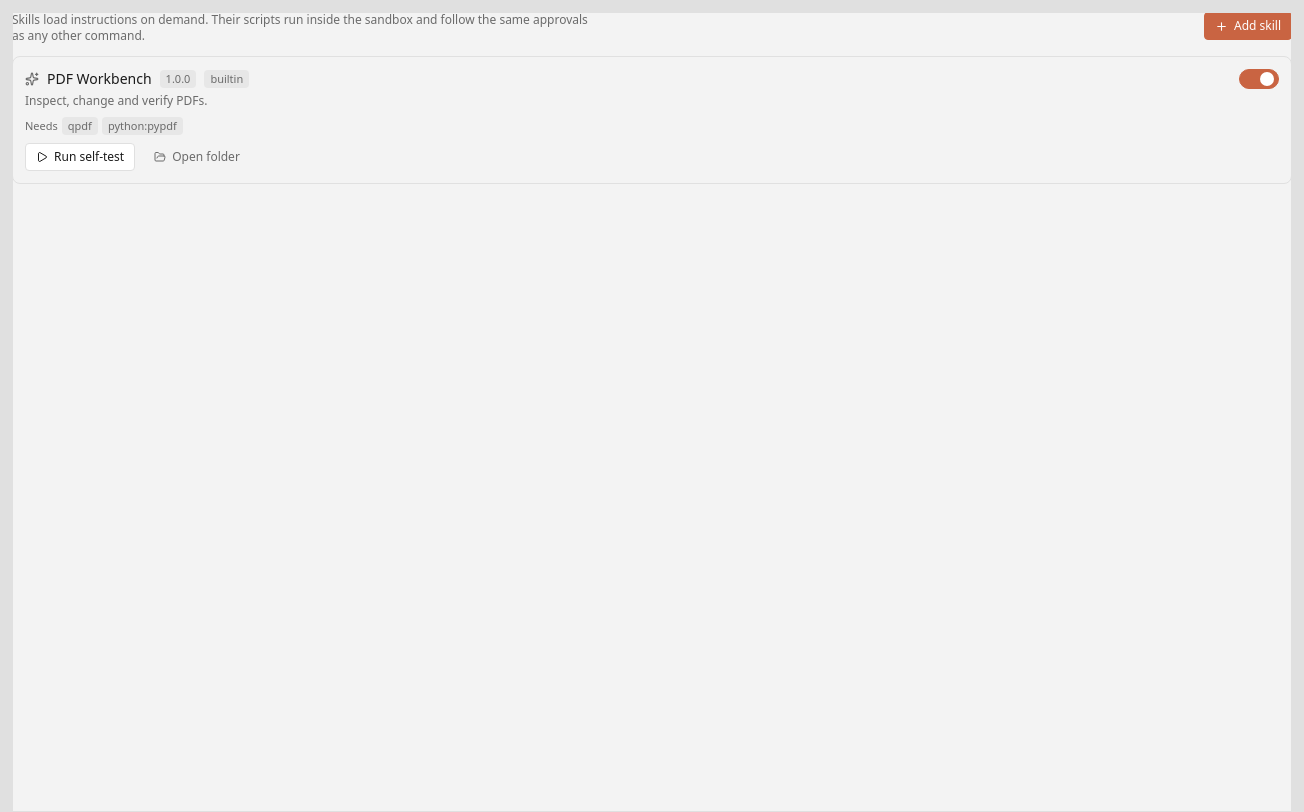
Test: SkillsPage › shows the self-test result
What coordinates should you click on to do the following:
click the button "Run self-test"
I would click on:
 (80, 157)
Its box is [25,143,135,171].
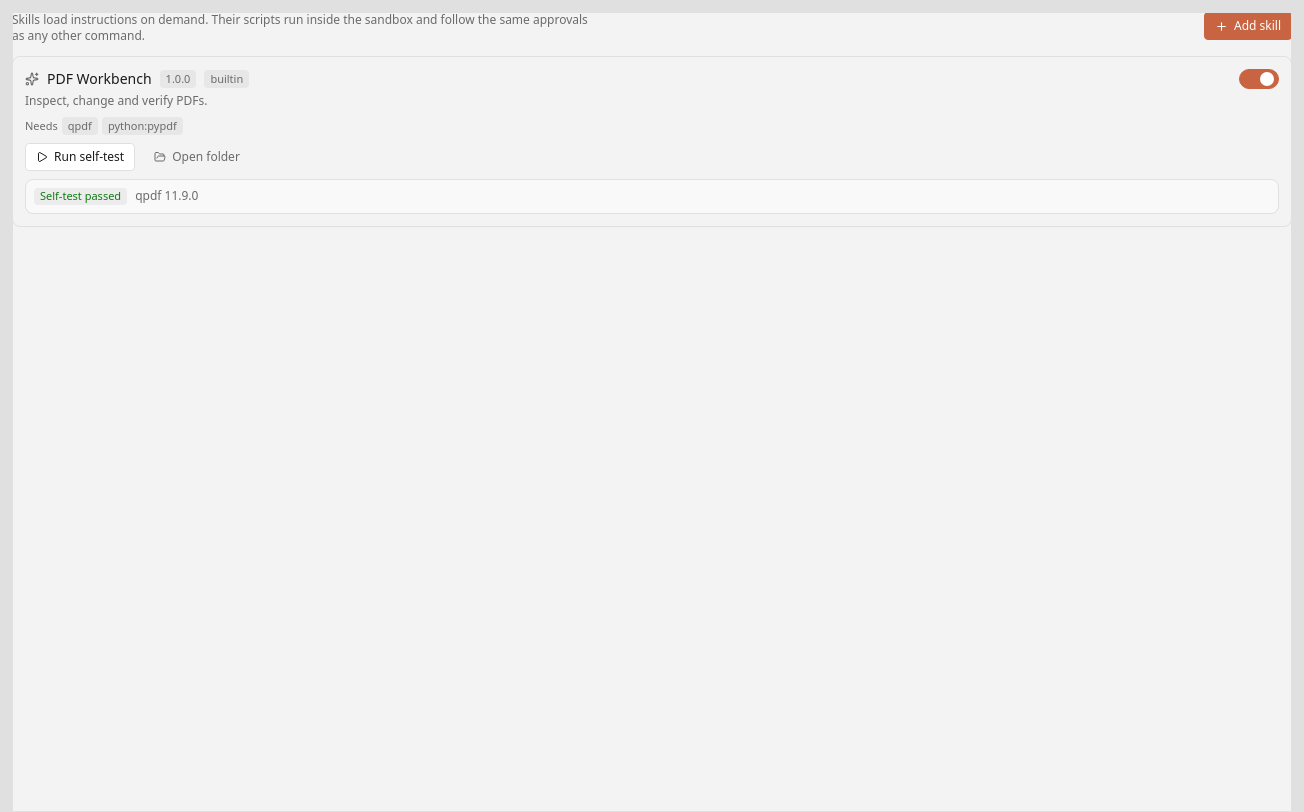
Expected: the text "Self-test passed" is shown, [34,188,127,205]
Expected: the text "qpdf 11.9.0" is shown, [135,188,198,204]
